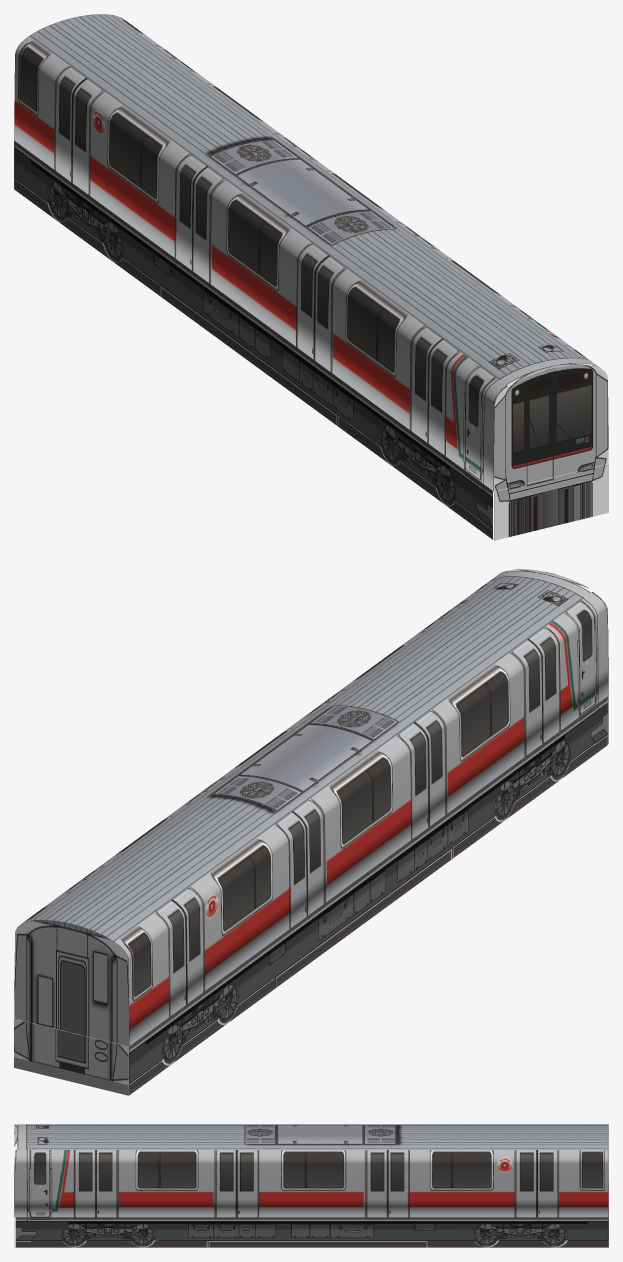
Rendered from car1.glb.
3 renders of one model, top to bottom at view 1: azimuth 30°, elevation 25°; view 2: azimuth 150°, elevation 25°; view 3: azimuth 270°, elevation 25°, orthographic. The views are drawn at different scales.
Visible parts, largest first — view 1: tokyu-5000-car1; view 2: tokyu-5000-car1; view 3: tokyu-5000-car1.
Boxes of the visible parts, box(x1,y1,x2,y2) form: tokyu-5000-car1: box(14, 14, 608, 540); tokyu-5000-car1: box(14, 569, 608, 1095); tokyu-5000-car1: box(14, 1124, 608, 1247).
Size of the model in its own units: 2.78 by 3.64 by 20.13.
Materials: 9 (8 with a texture image).
